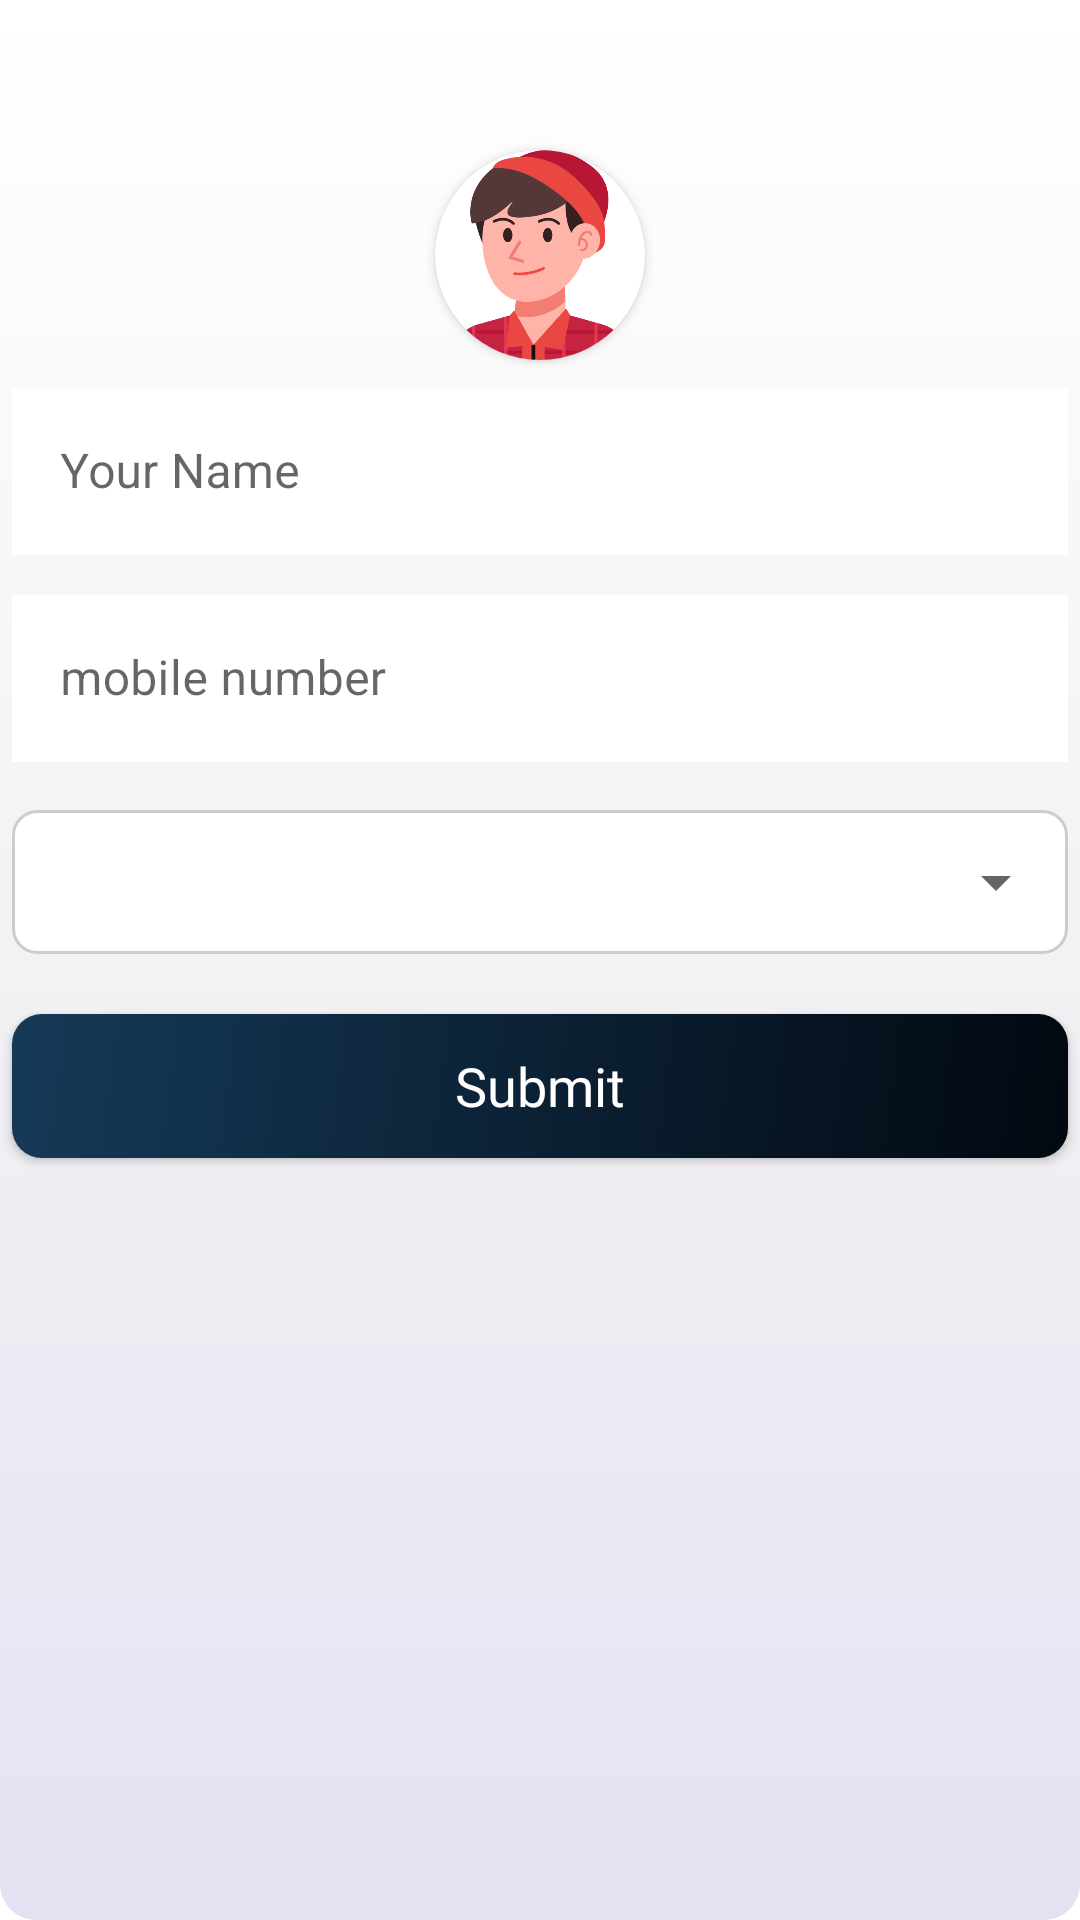

Icon click points for this 1080x1920 phone screenshot, format (x=x, y=y):
profile: (x=540, y=255)
